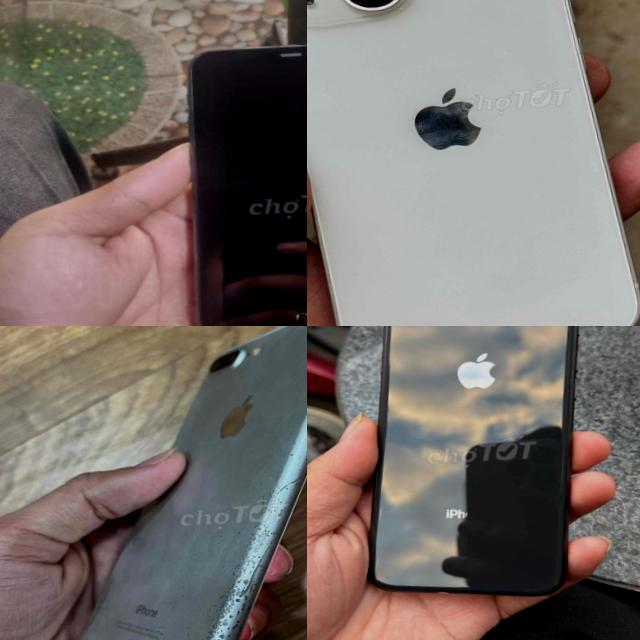gen_11: (177, 29, 307, 326)
gen_12_13: (307, 0, 640, 326)
gen_7_8: (24, 326, 307, 640), (352, 326, 594, 605)
scratch: (94, 445, 307, 640)
